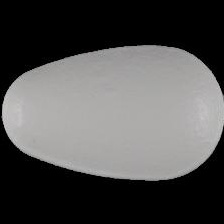0006-0960: (0, 0, 224, 224)
